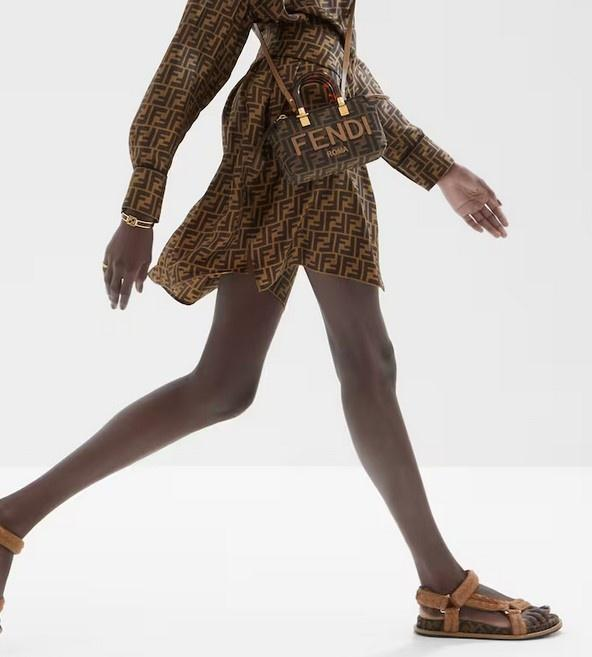FENDI: (291, 115, 372, 156)
